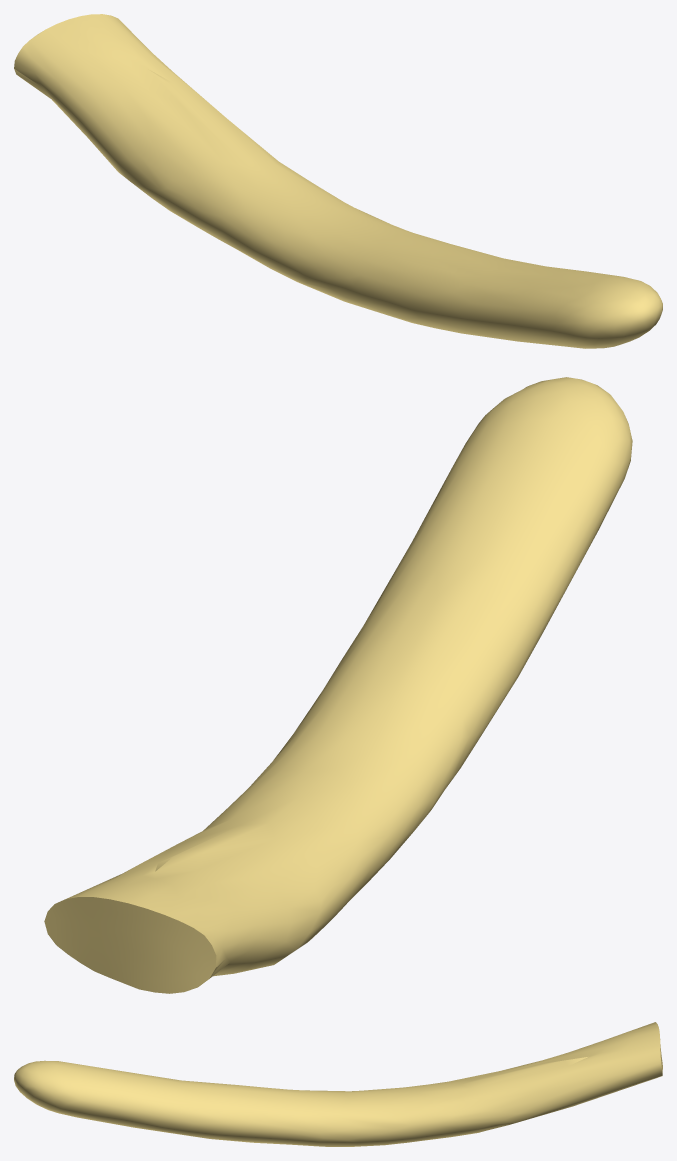
File: fma223163_mm3003m.glb
The picture shows the model from 3 angles, top to bottom: view 1: azimuth 30°, elevation 25°; view 2: azimuth 150°, elevation 25°; view 3: azimuth 270°, elevation 25°; orthographic projection. The views are drawn at different scales.
Parts seen in each view (by area): view 1: FMA223163_MM3003M; view 2: FMA223163_MM3003M; view 3: FMA223163_MM3003M.
Boxes of the visible parts, x1,y1,x2,y2 form: FMA223163_MM3003M: [14, 14, 662, 348]; FMA223163_MM3003M: [44, 377, 632, 993]; FMA223163_MM3003M: [14, 1022, 662, 1146].
Size of the model in its own units: 0.00845 by 0.00486 by 0.0289.
